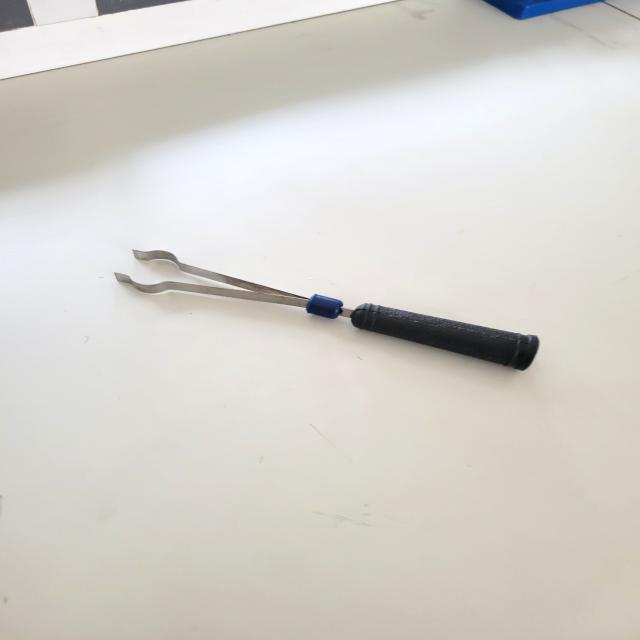TestTube_Holder: (104, 238, 554, 375)
